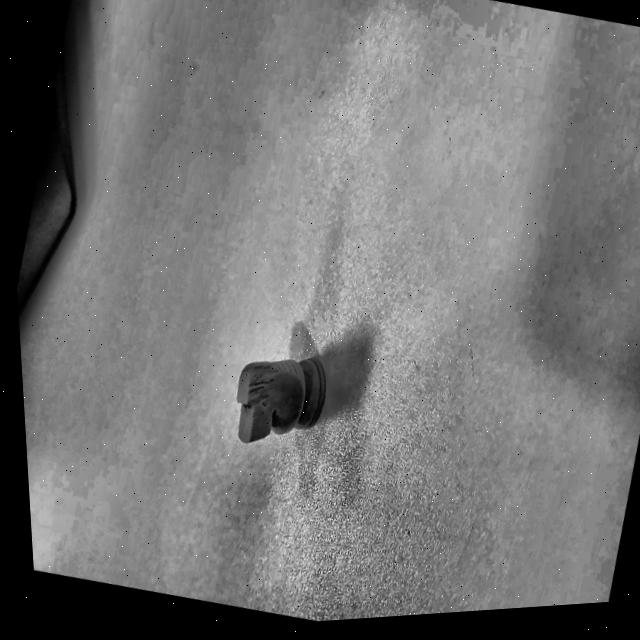white-knight: (215, 318, 358, 486)
